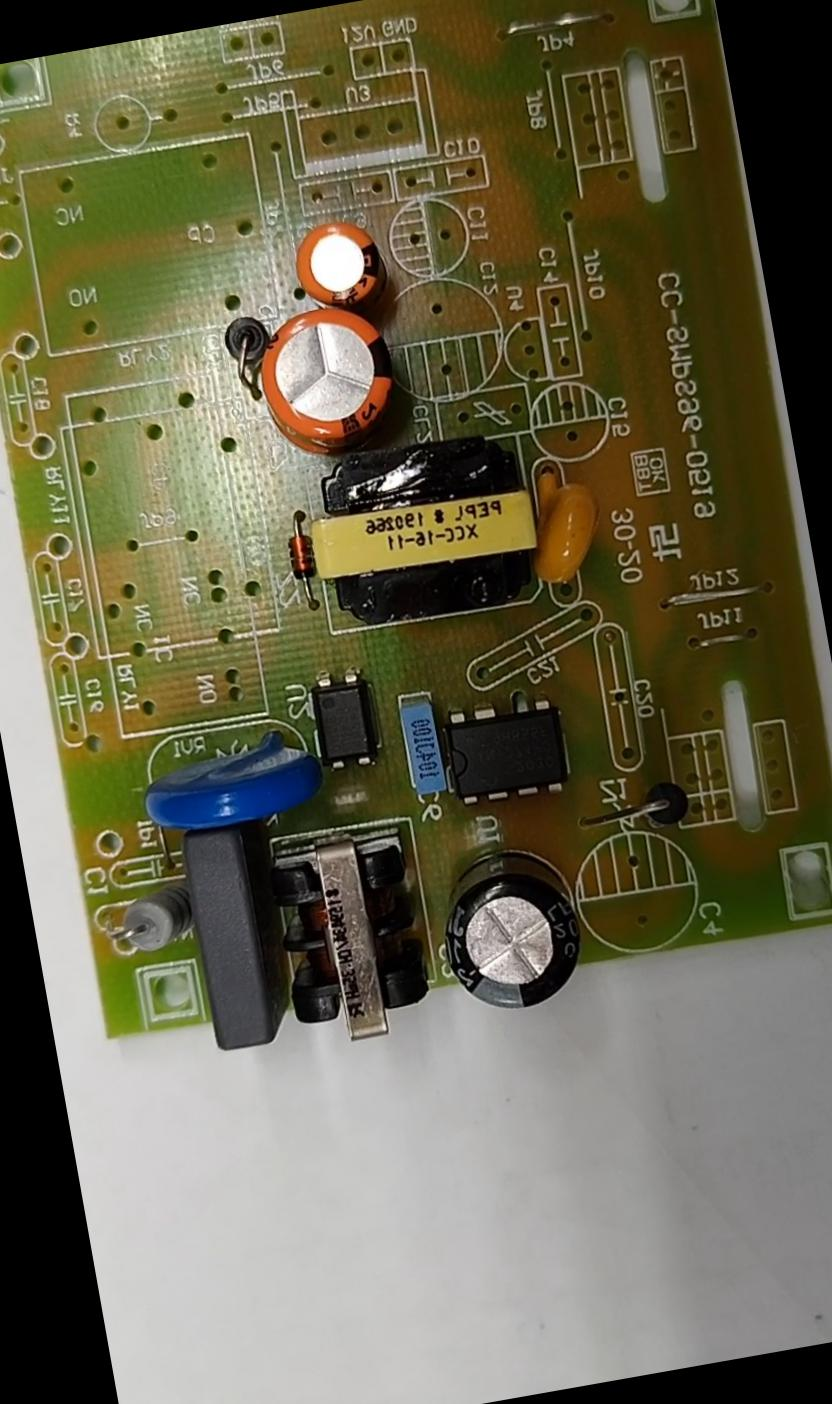Cap1: (250, 296, 408, 459)
Cap2: (288, 212, 380, 310)
Cap3: (431, 839, 584, 1020)
MOSFET: (443, 694, 567, 806)
Mov: (133, 731, 322, 839)
Resistor: (104, 885, 196, 955)
Transformer: (301, 427, 548, 633), (266, 825, 435, 1050)
